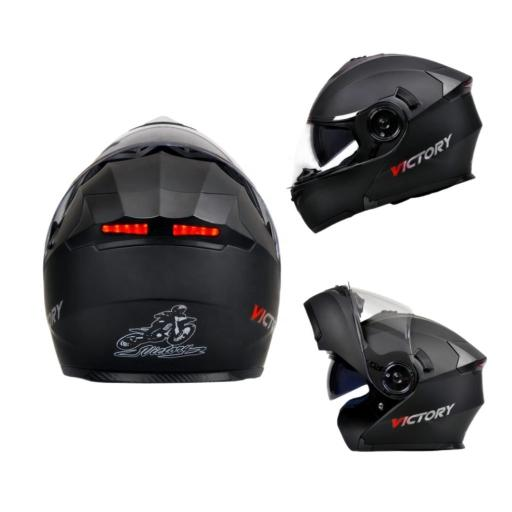helmet-detection: (25, 109, 293, 431), (286, 35, 498, 235)
